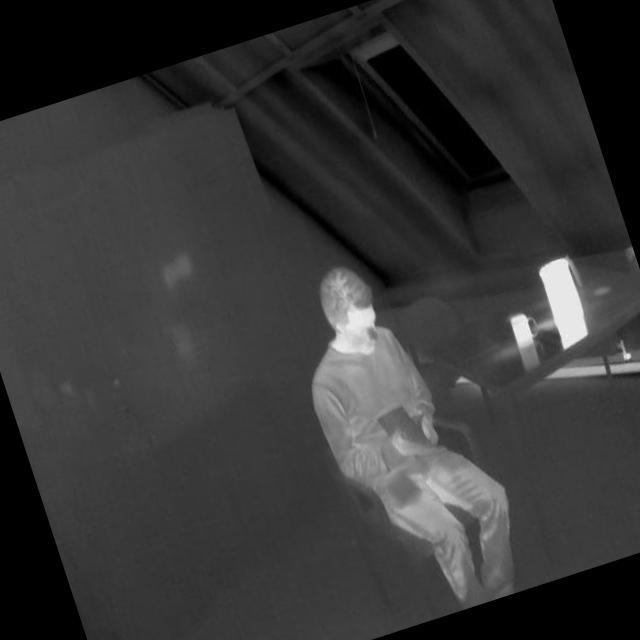person: (273, 232, 543, 633)
